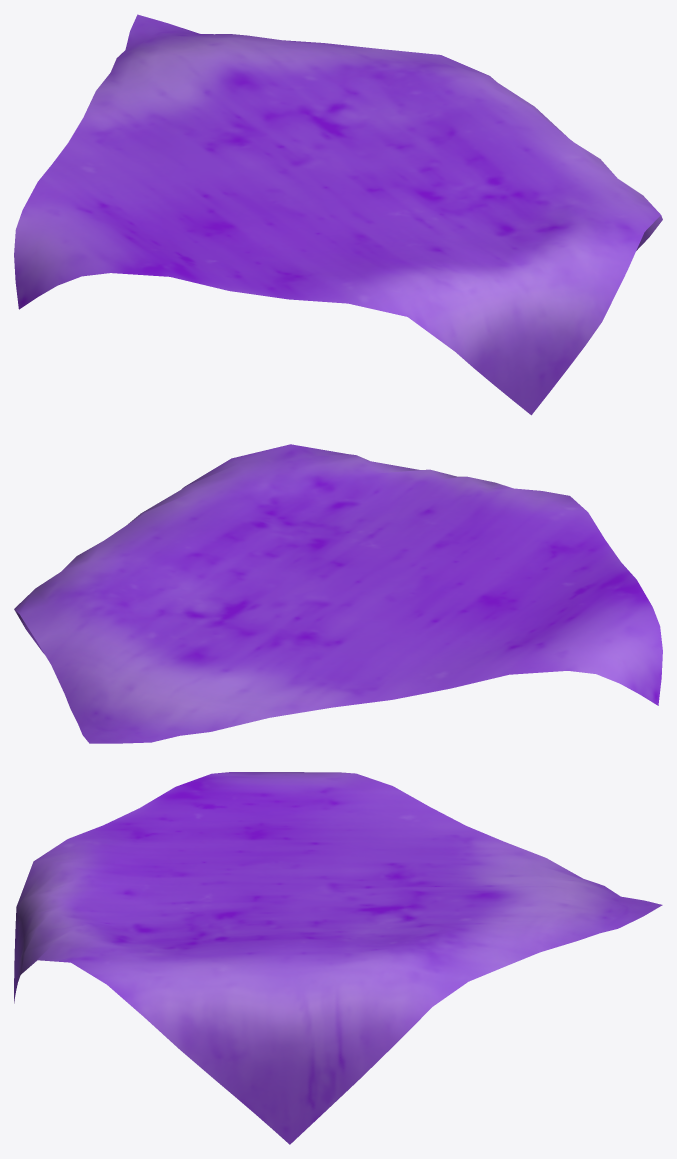
File: clothshelf1.fbx
3 renders of one model, top to bottom at view 1: azimuth 30°, elevation 25°; view 2: azimuth 150°, elevation 25°; view 3: azimuth 270°, elevation 25°, orthographic. The views are drawn at different scales.
Parts seen in each view (by area): view 1: clothshelf1; view 2: clothshelf1; view 3: clothshelf1.
Part boxes in pixels (x1,y1,x2,y2): clothshelf1: (14, 14, 662, 415); clothshelf1: (14, 444, 662, 743); clothshelf1: (14, 772, 662, 1144).
Bounding box in the file's own units: 330 × 105 × 386.
